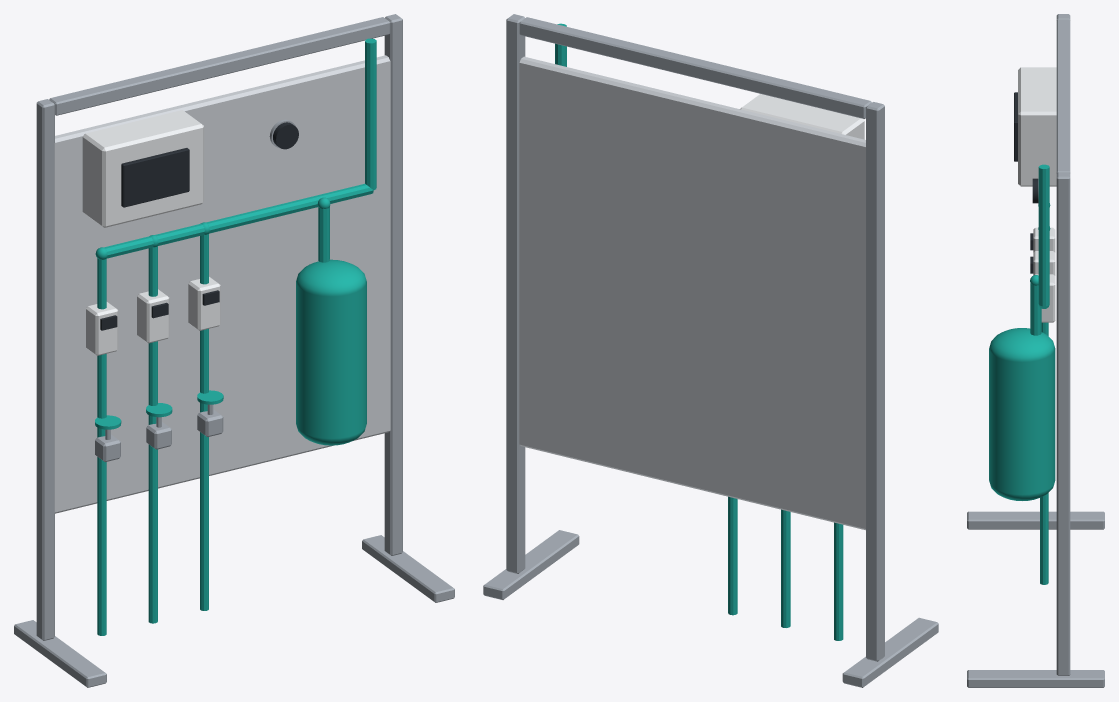
File: gas-mixing-panel.glb
3 renders of one model, left to right at view 1: azimuth 30°, elevation 25°; view 2: azimuth 150°, elevation 25°; view 3: azimuth 270°, elevation 25°, orthographic. The views are drawn at different scales.
Visible parts, largest first — view 1: gas-mixing-panel; view 2: gas-mixing-panel; view 3: gas-mixing-panel.
Boxes of the visible parts, left/top/right/bottom form: gas-mixing-panel: left=14, top=14, right=454, bottom=687; gas-mixing-panel: left=483, top=14, right=938, bottom=687; gas-mixing-panel: left=967, top=14, right=1104, bottom=687.
Bounding box in the file's own units: 1.44 × 2.04 × 0.5.
